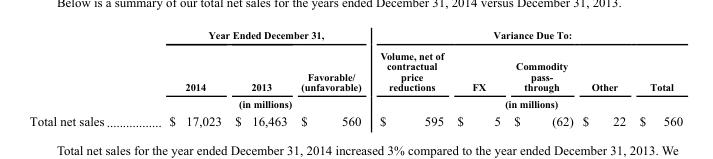table: (28, 28, 682, 128)
table column: (28, 28, 135, 128), (135, 28, 227, 128), (369, 28, 449, 128), (293, 28, 369, 128), (506, 28, 577, 128), (227, 28, 293, 128), (449, 28, 506, 128), (577, 28, 631, 128), (631, 28, 682, 128)
table column header: (28, 28, 682, 111)
table row: (28, 45, 682, 94), (28, 28, 682, 45), (28, 94, 682, 111), (28, 111, 682, 128)
table spanning cell: (369, 28, 682, 45), (369, 94, 682, 111), (135, 28, 369, 45), (135, 94, 369, 111)
